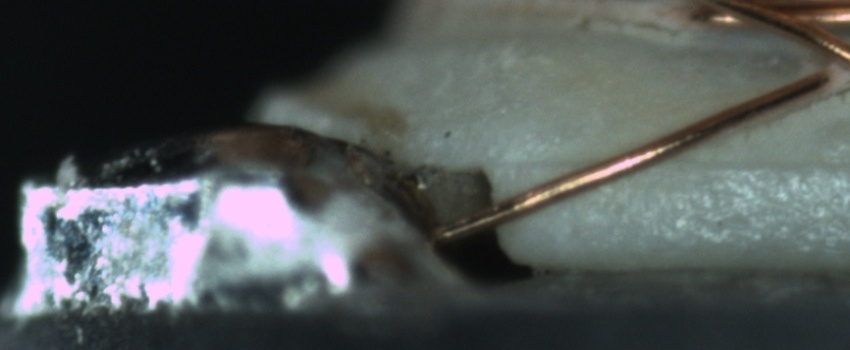CL: (799, 28, 850, 97)
DL: (509, 133, 850, 195)
